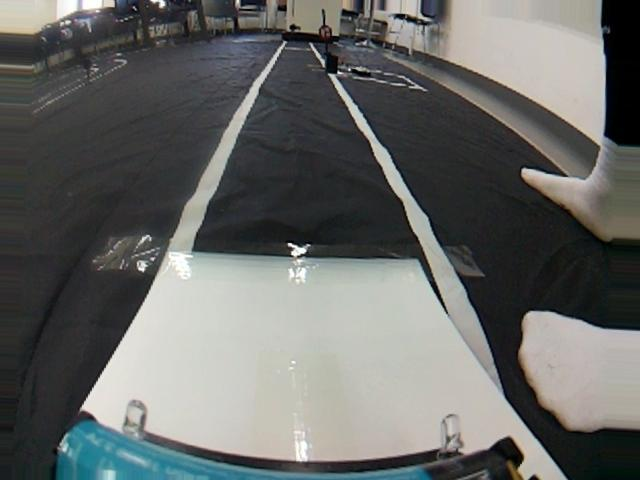hill_down: (4, 240, 630, 477)
